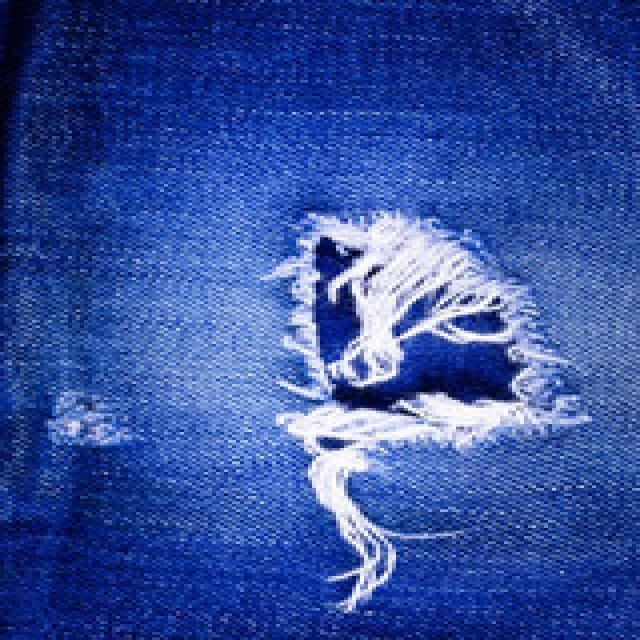Hole: (267, 212, 592, 614), (47, 392, 131, 446)
